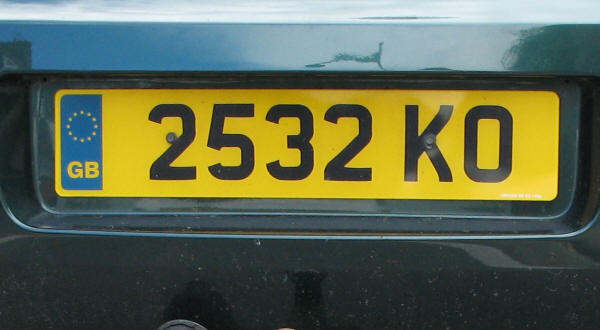license_plate: (53, 87, 559, 203)
